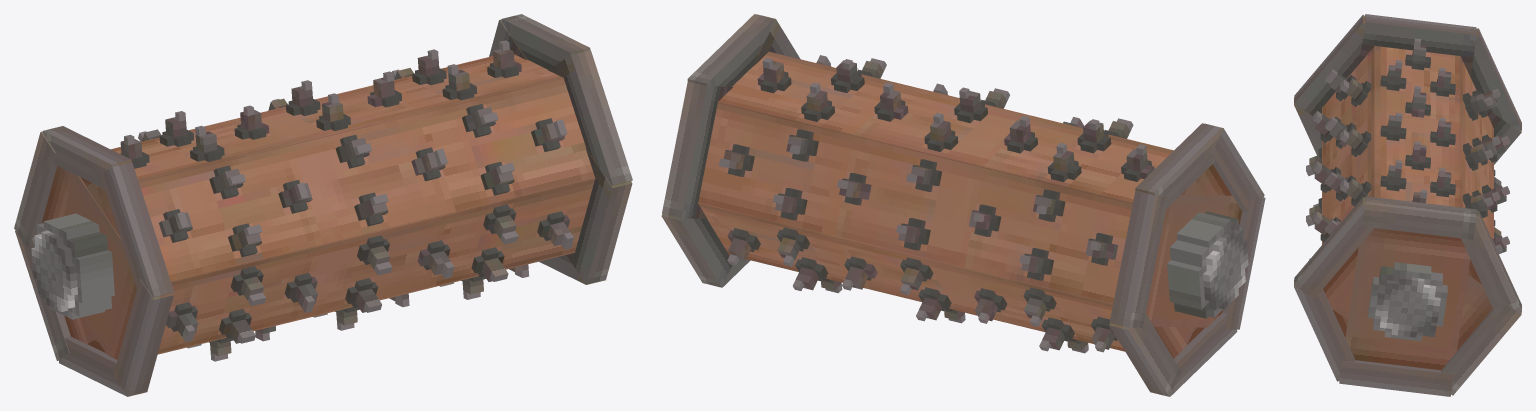
The model's file is trap-5.glb.
3 renders of one model, left to right at view 1: azimuth 30°, elevation 25°; view 2: azimuth 150°, elevation 25°; view 3: azimuth 270°, elevation 25°, orthographic. The views are drawn at different scales.
Parts seen in each view (by area): view 1: base-Local; view 2: base-Local; view 3: base-Local.
Part boxes in pixels (x1,y1,x2,y2): base-Local: (14,14,632,396); base-Local: (661,14,1265,396); base-Local: (1294,14,1521,396).
Size of the model in its own units: 2.19 by 0.9348 by 1.
2 materials, 2 textured.
